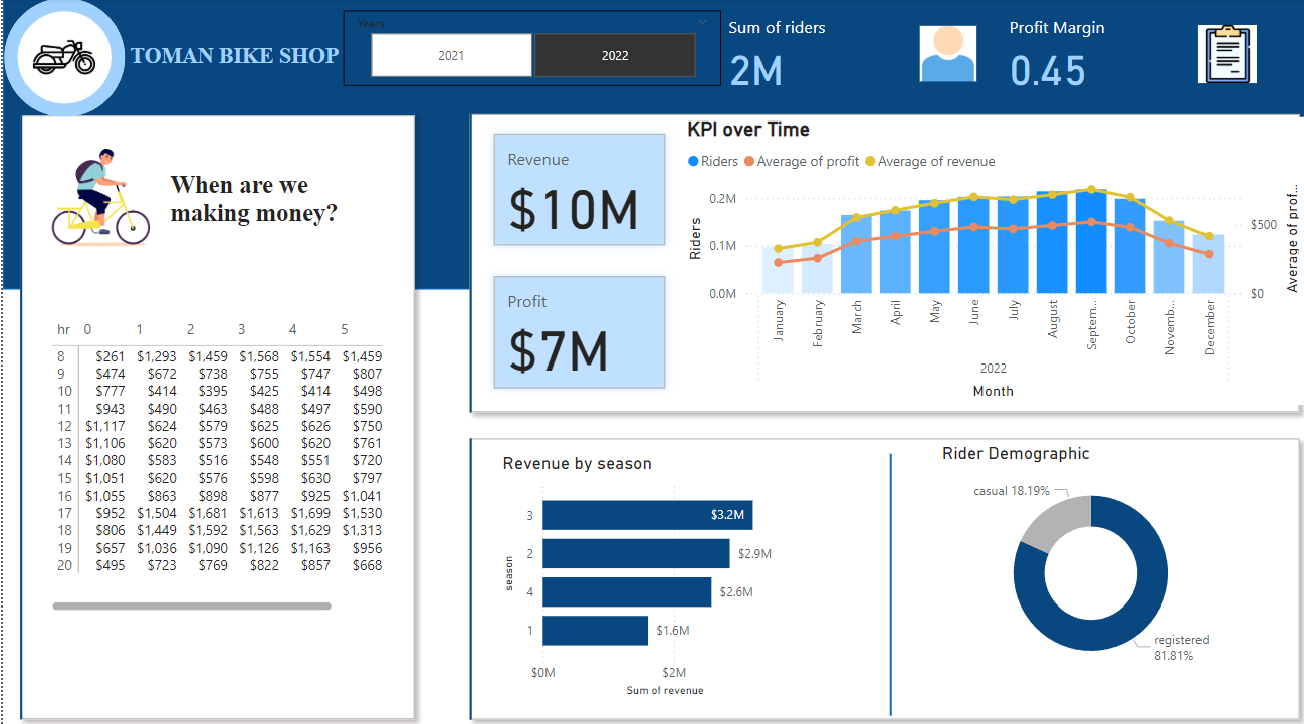

The page's visual inventory and layout, read from the dashboard file:
{"tool":"powerbi","page":{"name":"Page 1","canvas":[1280,720],"ordinal":0},"visuals":[{"type":"shape","box":[0,0,1280.3,284],"z":0},{"type":"cardVisual","fields":{"Data":["Min(Query1.riders)"]},"box":[0,97.4,418.5,623],"z":1000},{"type":"cardVisual","fields":{"Data":["Min(Query1.riders)"]},"box":[437.8,96.6,842.5,324.1],"z":2000},{"type":"cardVisual","fields":{"Data":["Min(Query1.riders)"]},"box":[437.8,412.1,842.5,308.2],"z":3000},{"type":"cardVisual","fields":{"Data":["Min(Query1.riders)"]},"box":[26.9,126,141.8,141.8],"z":4000},{"type":"cardVisual","fields":{"Data":["Sum(Query1.riders)","Query1.Profit Margin"]},"box":[689.7,0,549.1,97.8],"z":5000},{"type":"textbox","box":[157.8,163.3,216.8,65.9],"z":6000},{"type":"lineClusteredColumnComboChart","title":"KPI over Time","fields":{"Category":["Query1.dteday.Variation.Date Hierarchy.Year","Query1.dteday.Variation.Date Hierarchy.Month","Query1.dteday.Variation.Date Hierarchy.Day"],"Y":["Sum(Query1.riders)"],"Y2":["Avg(Query1.profit)","Avg(Query1.revenue)"]},"box":[661.6,116.2,605.3,280],"z":7000},{"type":"clusteredBarChart","title":"Revenue by season","fields":{"Category":["Query1.season"],"Y":["Sum(Query1.revenue)"]},"box":[481.8,442.7,299.6,242.1],"z":8000},{"type":"donutChart","title":"Rider Demographic","fields":{"Category":["Query1.rider_type"],"Y":["Sum(Query1.riders)"]},"box":[909.8,432.9,299.6,236],"z":9000},{"type":"shape","box":[857.2,443.9,14.7,255.6],"z":10000},{"type":"cardVisual","title":"KPI over Time","fields":{"Data":["Sum(Query1.revenue)","Sum(Query1.profit)"]},"box":[462.2,116.2,199.3,280],"z":11000},{"type":"shape","box":[1.2,0,117.4,116.2],"z":12000},{"type":"textbox","box":[118.6,39.1,299.6,77],"z":13000},{"type":"image","box":[24.5,19.6,70.9,77],"z":14000},{"type":"slicer","fields":{"Values":["Query1.Years"]},"box":[331.4,12.2,368.1,73.4],"z":15000},{"type":"pivotTable","fields":{"Rows":["Query1.hr"],"Values":["Avg(Query1.revenue)"],"Columns":["Query1.weekday"]},"box":[42.5,308.7,332.1,293.7],"z":15001}]}

Visuals, with their boxes in screenshot pixels (x1, y1, x2, y2), scaled from the page's 1280x720 canvas onto the 1304x724 screenshot:
shape: bbox=[0, 0, 1303, 286]
cardVisual - Min(Query1.riders): bbox=[0, 98, 426, 723]
cardVisual - Min(Query1.riders): bbox=[446, 97, 1303, 423]
cardVisual - Min(Query1.riders): bbox=[446, 414, 1303, 723]
cardVisual - Min(Query1.riders): bbox=[27, 127, 172, 269]
cardVisual - Sum(Query1.riders) x Query1.Profit Margin: bbox=[703, 0, 1262, 98]
textbox: bbox=[161, 164, 382, 230]
"KPI over Time" lineClusteredColumnComboChart: bbox=[674, 117, 1291, 398]
"Revenue by season" clusteredBarChart: bbox=[491, 445, 796, 689]
"Rider Demographic" donutChart: bbox=[927, 435, 1232, 673]
shape: bbox=[873, 446, 888, 703]
"KPI over Time" cardVisual: bbox=[471, 117, 674, 398]
shape: bbox=[1, 0, 121, 117]
textbox: bbox=[121, 39, 426, 117]
image: bbox=[25, 20, 97, 97]
slicer - Query1.Years: bbox=[338, 12, 713, 86]
pivotTable - Query1.hr x Avg(Query1.revenue): bbox=[43, 310, 382, 606]
